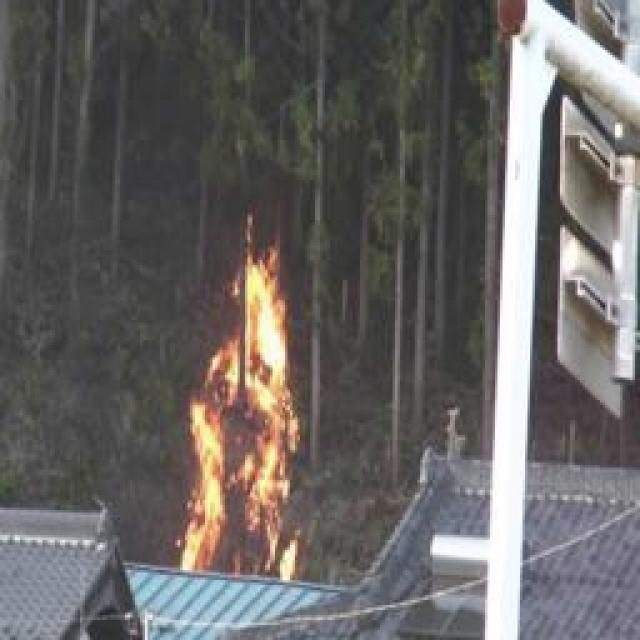Fire: (182, 250, 317, 580)
